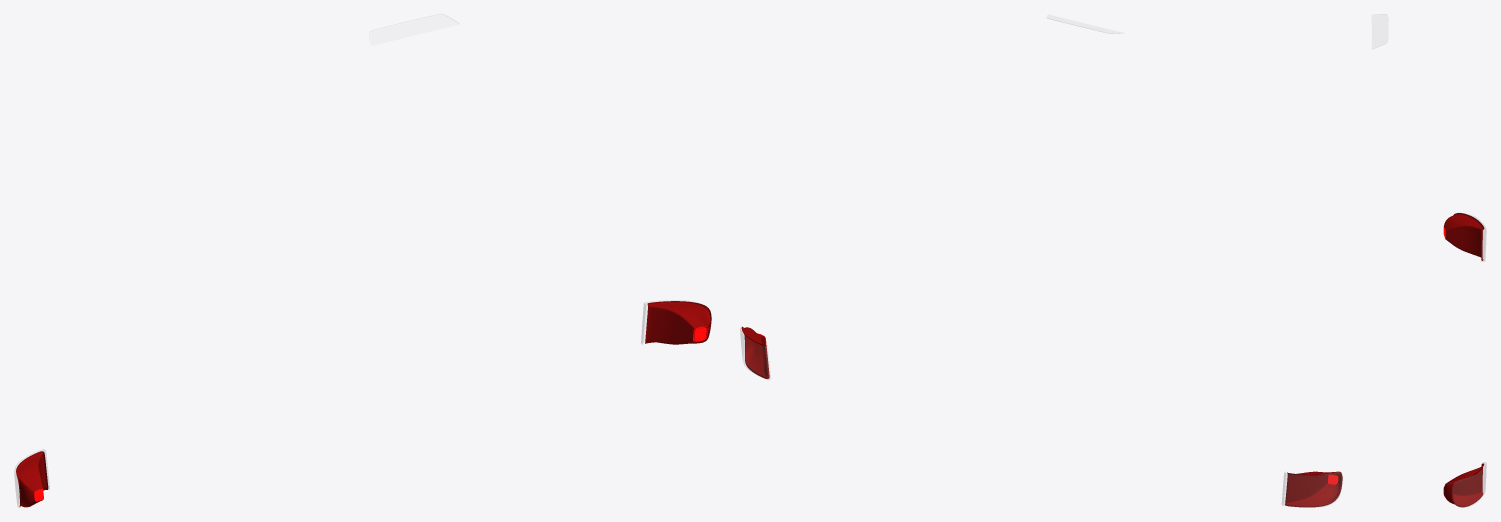
Rendered from катафотсток.glb.
3 views of the same model, side by side, from view 1: azimuth 30°, elevation 25°; view 2: azimuth 150°, elevation 25°; view 3: azimuth 270°, elevation 25° (orthographic). The views are drawn at different scales.
Parts seen in each view (by area): view 1: car, polySurface977; view 2: polySurface977, car; view 3: car, polySurface977.
Boxes of the visible parts, x1=… form: car: x1=16, y1=301, x2=711, y2=507; polySurface977: x1=14, y1=14, x2=700, y2=507; polySurface977: x1=740, y1=15, x2=1342, y2=507; car: x1=741, y1=326, x2=1342, y2=507; car: x1=1443, y1=213, x2=1484, y2=507; polySurface977: x1=1372, y1=14, x2=1486, y2=507.
Size of the model in its own units: 2.17 by 1.31 by 0.3924.
